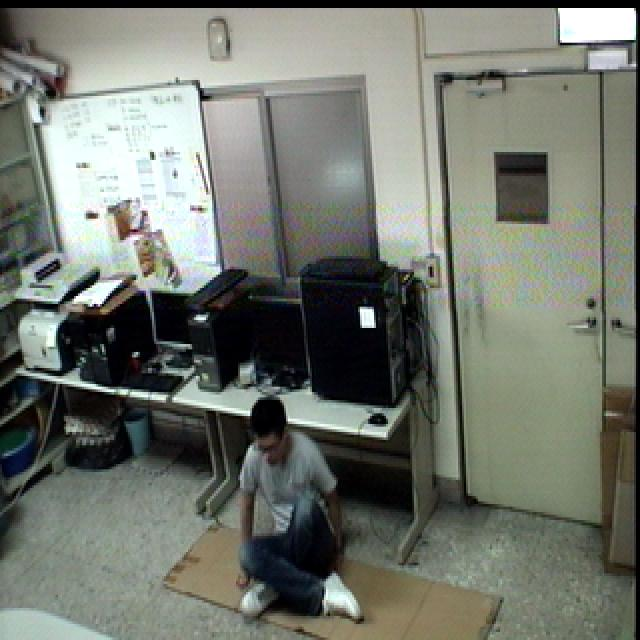sit: (223, 384, 371, 630)
